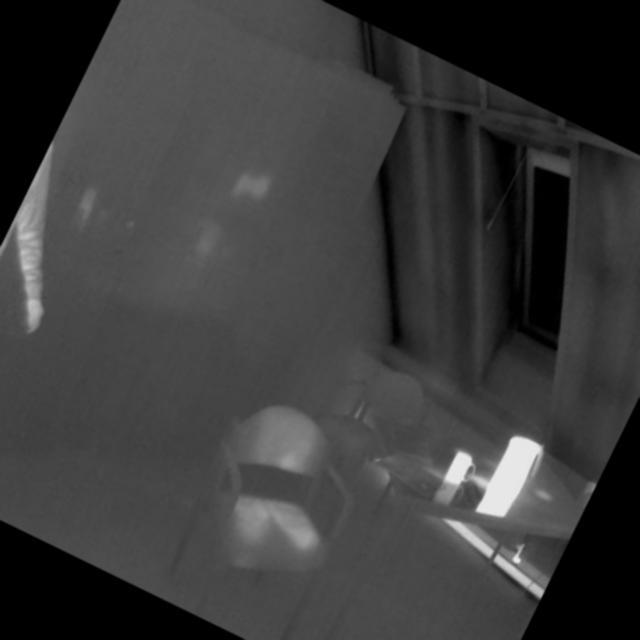person: (0, 127, 122, 498)
